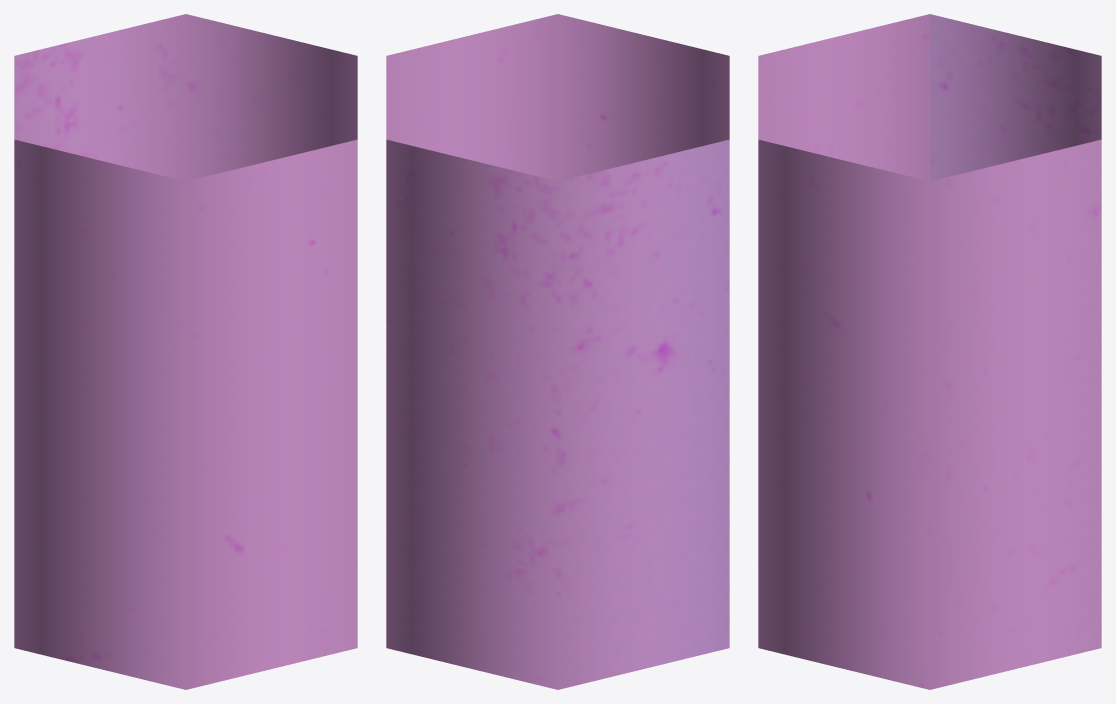
The model's file is PipeMedium_02_SM_Low.fbx.
3 views of the same model, side by side, from view 1: azimuth 30°, elevation 25°; view 2: azimuth 150°, elevation 25°; view 3: azimuth 270°, elevation 25° (orthographic).
Visible parts, largest first — view 1: Medium_Half; view 2: Medium_Half; view 3: Medium_Half.
Part boxes in pixels (<box>): Medium_Half: <box>14,14,357,689</box>; Medium_Half: <box>386,14,729,689</box>; Medium_Half: <box>758,14,1101,689</box>.
Size of the model in its own units: 52.96 by 75 by 45.86.
Materials: 1 (1 with a texture image).
